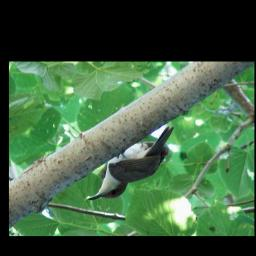Cuckoo: (85, 124, 175, 201)
